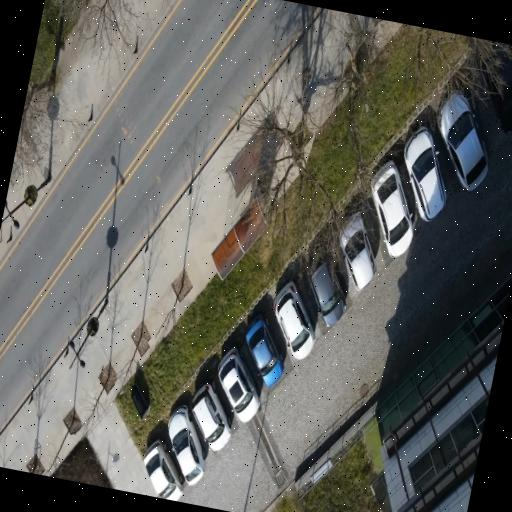person: (438, 92, 487, 189), (371, 160, 412, 256), (404, 126, 445, 220), (273, 281, 314, 359), (218, 347, 259, 421), (167, 405, 205, 484), (191, 381, 231, 450), (245, 313, 283, 385), (340, 211, 375, 289), (143, 439, 183, 500), (311, 259, 345, 325), (484, 51, 511, 133)
